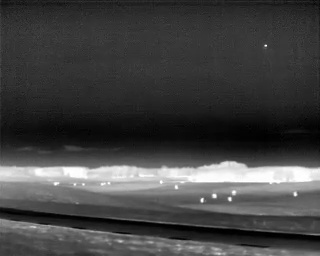BIRD: (262, 41, 270, 51)
